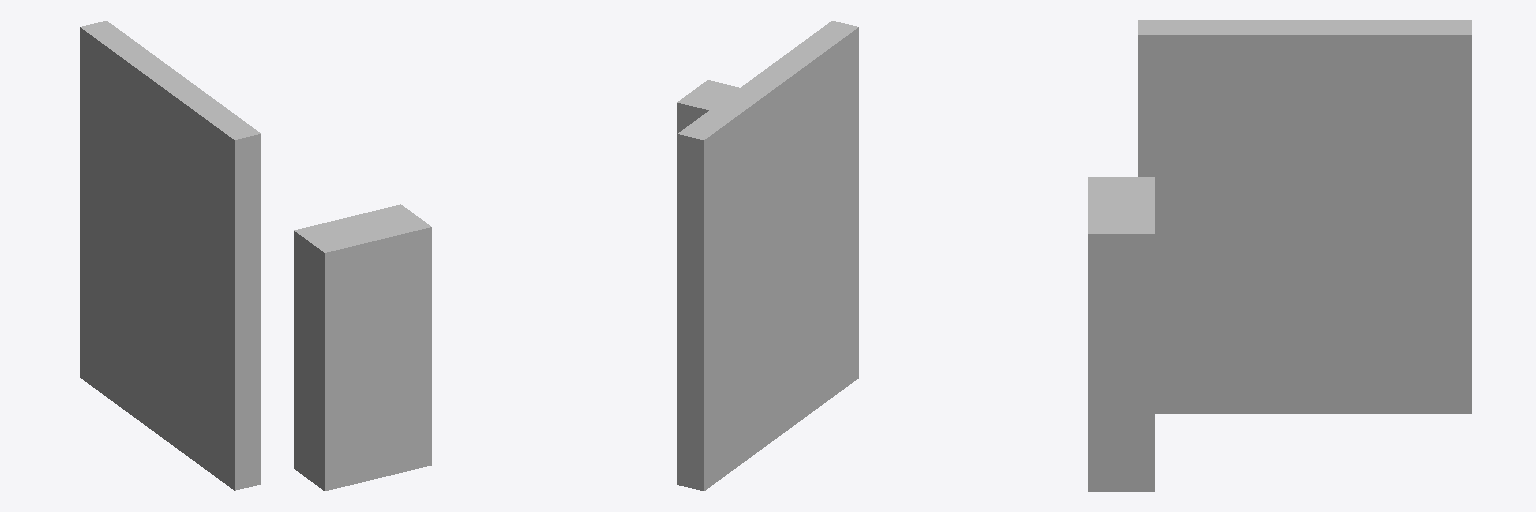
robot.urdf — robot_mh5l_wtable:
<?xml version="1.0" encoding="utf-8"?>
<!-- =================================================================================== -->
<!-- |    This document was autogenerated by xacro from mh5l_table_pgn64.xacro         | -->
<!-- |    EDITING THIS FILE BY HAND IS NOT RECOMMENDED                                 | -->
<!-- =================================================================================== -->
<robot name="robot_mh5l_wtable">
  <!--Build Kinematic Chain using imported components -->
  <!-- Motoman MH5L Table URDF -->
  <link name="table_link">
    <visual>
      <origin rpy="0 0 0" xyz="0 0 0"/>
      <geometry>
        <mesh filename="package://mh5l_table/meshes/mh5_worktable_visual.stl"/>
      </geometry>
      <material name="table">
        <color rgba="0.8 0.8 0.8 1"/>
      </material>
    </visual>
    <collision>
      <origin rpy="0 0 0" xyz="0 0 0"/>
      <geometry>
        <mesh filename="package://mh5l_table/meshes/mh5_worktable_collision.stl"/>
      </geometry>
    </collision>
  </link>
  <link name="back_wall">
    <visual>
      <origin rpy="0 0 0" xyz="0 0 0"/>
      <geometry>
        <box size="0.2 2 2.5"/>
      </geometry>
      <material name="table"/>
    </visual>
    <collision>
      <origin rpy="0 0 0" xyz="0 0 0"/>
      <geometry>
        <box size="0.2 2 2.5"/>
      </geometry>
    </collision>
  </link>
  <link name="side_wall">
    <visual>
      <origin rpy="0 0 0" xyz="0 0 0"/>
      <geometry>
        <box size="0.80 0.40 1.7"/>
      </geometry>
      <material name="table"/>
    </visual>
    <collision>
      <origin rpy="0 0 0" xyz="0 0 0"/>
      <geometry>
        <box size="0.80 0.40 1.7"/>
      </geometry>
    </collision>
  </link>
  <joint name="table_link-back_wall" type="fixed">
    <origin rpy="0 0 0" xyz="-0.9 0 0.4"/>
    <parent link="table_link"/>
    <child link="back_wall"/>
  </joint>
  <joint name="table_link-side_wall" type="fixed">
    <origin rpy="0 0 0" xyz="-0.1 -1.10 0"/>
    <parent link="table_link"/>
    <child link="side_wall"/>
  </joint>
  <!-- Motoman MH5L Origin on Table -->
  <link name="robot_origin"/>
  <joint name="robot_origin-table_link" type="fixed">
    <origin rpy="0 0 0" xyz="0 0 0"/>
    <parent link="robot_origin"/>
    <child link="table_link"/>
  </joint>
  <!-- Properties -->
  <material name="yaskawa_white">
    <color rgba="0.9 0.9 0.9 1"/>
  </material>
  <!-- link list -->
  <link name="base_link">
    <visual>
      <origin rpy="0 0 0" xyz="0 0 0"/>
      <geometry>
        <mesh filename="package://motoman_mh5_support/meshes/mh5l/visual/base_link.stl"/>
      </geometry>
      <material name="yaskawa_white"/>
    </visual>
    <collision>
      <origin rpy="0 0 0" xyz="0 0 0"/>
      <geometry>
        <mesh filename="package://motoman_mh5_support/meshes/mh5l/collision/base_link.stl"/>
      </geometry>
    </collision>
  </link>
  <link name="link_1_s">
    <visual>
      <origin rpy="0 0 0" xyz="0 0 0"/>
      <geometry>
        <mesh filename="package://motoman_mh5_support/meshes/mh5l/visual/link_1_s.stl"/>
      </geometry>
      <material name="yaskawa_white"/>
    </visual>
    <collision>
      <origin rpy="0 0 0" xyz="0 0 0"/>
      <geometry>
        <mesh filename="package://motoman_mh5_support/meshes/mh5l/collision/link_1_s.stl"/>
      </geometry>
    </collision>
  </link>
  <link name="link_2_l">
    <visual>
      <origin rpy="0 0 0" xyz="0 0 0"/>
      <geometry>
        <mesh filename="package://motoman_mh5_support/meshes/mh5l/visual/link_2_l.stl"/>
      </geometry>
      <material name="yaskawa_white"/>
    </visual>
    <collision>
      <origin rpy="0 0 0" xyz="0 0 0"/>
      <geometry>
        <mesh filename="package://motoman_mh5_support/meshes/mh5l/collision/link_2_l.stl"/>
      </geometry>
    </collision>
  </link>
  <link name="link_3_u">
    <visual>
      <origin rpy="0 0 0" xyz="0 0 0"/>
      <geometry>
        <mesh filename="package://motoman_mh5_support/meshes/mh5l/visual/link_3_u.stl"/>
      </geometry>
      <material name="yaskawa_white"/>
    </visual>
    <collision>
      <origin rpy="0 0 0" xyz="0 0 0"/>
      <geometry>
        <mesh filename="package://motoman_mh5_support/meshes/mh5l/collision/link_3_u.stl"/>
      </geometry>
    </collision>
  </link>
  <link name="link_4_r">
    <visual>
      <origin rpy="0 0 0" xyz="0 0 0"/>
      <geometry>
        <mesh filename="package://motoman_mh5_support/meshes/mh5l/visual/link_4_r.stl"/>
      </geometry>
      <material name="yaskawa_white"/>
    </visual>
    <collision>
      <origin rpy="0 0 0" xyz="0 0 0"/>
      <geometry>
        <mesh filename="package://motoman_mh5_support/meshes/mh5l/collision/link_4_r.stl"/>
      </geometry>
    </collision>
  </link>
  <link name="link_5_b">
    <visual>
      <origin rpy="0 0 0" xyz="0 0 0"/>
      <geometry>
        <mesh filename="package://motoman_mh5_support/meshes/mh5l/visual/link_5_b.stl"/>
      </geometry>
      <material name="yaskawa_white"/>
    </visual>
    <collision>
      <origin rpy="0 0 0" xyz="0 0 0"/>
      <geometry>
        <mesh filename="package://motoman_mh5_support/meshes/mh5l/collision/link_5_b.stl"/>
      </geometry>
    </collision>
  </link>
  <link name="link_6_t">
    <visual>
      <origin rpy="0 0 0" xyz="0 0 0"/>
      <geometry>
        <mesh filename="package://motoman_mh5_support/meshes/mh5l/visual/link_6_t.stl"/>
      </geometry>
      <material name="yaskawa_white"/>
    </visual>
    <collision>
      <origin rpy="0 0 0" xyz="0 0 0"/>
      <geometry>
        <mesh filename="package://motoman_mh5_support/meshes/mh5l/collision/link_6_t.stl"/>
      </geometry>
    </collision>
  </link>
  <!-- end of link list -->
  <!-- joint list -->
  <joint name="joint_1_s" type="revolute">
    <parent link="base_link"/>
    <child link="link_1_s"/>
    <origin rpy="0 0 0" xyz="0 0 0.330"/>
    <axis xyz="0 0 1"/>
    <limit effort="303.8" lower="-2.96705972839" upper="2.96705972839" velocity="4.71238898038"/>
  </joint>
  <joint name="joint_2_l" type="revolute">
    <parent link="link_1_s"/>
    <child link="link_2_l"/>
    <origin rpy="0 0 0" xyz="0.0880 0 0.00"/>
    <axis xyz="0 1 0"/>
    <limit effort="205.8" lower="-1.1344640138" upper="2.61799387799" velocity="4.88692190558"/>
  </joint>
  <joint name="joint_3_u" type="revolute">
    <parent link="link_2_l"/>
    <child link="link_3_u"/>
    <origin rpy="0 0 0" xyz="0 0 0.400"/>
    <axis xyz="0 -1 0"/>
    <limit effort="85.5" lower="-1.2217304764" upper="3.31612557879" velocity="5.23598775598"/>
  </joint>
  <joint name="joint_4_r" type="revolute">
    <parent link="link_3_u"/>
    <child link="link_4_r"/>
    <origin rpy="0 0 0" xyz="0 0 0.040"/>
    <axis xyz="-1 0 0"/>
    <limit effort="44.7" lower="-3.31612557879" upper="3.31612557879" velocity="7.85398163397"/>
  </joint>
  <joint name="joint_5_b" type="revolute">
    <parent link="link_4_r"/>
    <child link="link_5_b"/>
    <origin rpy="0 0 0" xyz="0.405 0 0"/>
    <axis xyz="0 -1 0"/>
    <limit effort="18.0" lower="-2.35619449019" upper="2.35619449019" velocity="7.85398163397"/>
  </joint>
  <joint name="joint_6_t" type="revolute">
    <parent link="link_5_b"/>
    <child link="link_6_t"/>
    <origin rpy="0 0 0" xyz="0.080 0 0"/>
    <axis xyz="-1 0 0"/>
    <limit effort="18.0" lower="-6.28318530718" upper="6.28318530718" velocity="12.5663706144"/>
  </joint>
  <!-- end of joint list -->
  <!-- ROS base_link to Robot Manufacturer (Motoman) World Coordinates transform -->
  <link name="base"/>
  <joint name="base_link-base" type="fixed">
    <parent link="base_link"/>
    <child link="base"/>
    <origin rpy="0 0 0" xyz="0 0 0.330"/>
  </joint>
  <!-- ROS-Industrial 'flange' frame: attachment point for EEF models -->
  <link name="flange"/>
  <joint name="joint_6_t-flange" type="fixed">
    <parent link="link_6_t"/>
    <child link="flange"/>
    <origin rpy="0 0 0" xyz="0 0 0"/>
  </joint>
  <!-- ROS-Industrial 'tool0' frame: all-zeros tool frame -->
  <link name="tool0"/>
  <joint name="joint_6_t-tool0" type="fixed">
    <parent link="link_6_t"/>
    <child link="tool0"/>
    <origin rpy="3.14159265359 -1.57079632679 0" xyz="0 0 0"/>
  </joint>
  <!-- Schunk PGN64 EEF URDF -->
  <link name="eef_link">
    <visual>
      <origin rpy="0 -1.57079632679 0" xyz="0 0 0"/>
      <geometry>
        <mesh filename="package://schunk_pgn64_support/meshes/pgn64_closed_visual.stl"/>
      </geometry>
      <material name="eef">
        <color rgba="0.5 0.8 0.5 1"/>
      </material>
    </visual>
    <collision>
      <origin rpy="0 -1.57079632679 0" xyz="0 0 0"/>
      <geometry>
        <mesh filename="package://schunk_pgn64_support/meshes/pgn64_closed_collision.stl"/>
      </geometry>
    </collision>
  </link>
  <!-- EEF TCP Defined as the center point between EEF finger tips -->
  <link name="eef_tcp"/>
  <joint name="eef_link-eef_tcp" type="fixed">
    <origin rpy="0 0 0" xyz="0 0 0.134"/>
    <parent link="eef_link"/>
    <child link="eef_tcp"/>
  </joint>
  <joint name="robot_origin-base_link" type="fixed">
    <parent link="robot_origin"/>
    <child link="base_link"/>
    <origin rpy="0 0 0" xyx="0 0 0"/>
  </joint>
  <joint name="tool0-eef_link" type="fixed">
    <parent link="tool0"/>
    <child link="eef_link"/>
    <origin rpy="0 0 0" xyx="0 0 0"/>
  </joint>
</robot>

--- Render facts (derived) ---
3 views of the same robot in one strip: view 1: azimuth 30°, elevation 25°; view 2: azimuth 150°, elevation 25°; view 3: azimuth 270°, elevation 25° (orthographic).
Robot: robot_mh5l_wtable — 16 links, 15 joints (6 revolute, 9 fixed); root link robot_origin; default pose: every joint at zero.
Links seen in each view (by area): view 1: back_wall, side_wall; view 2: back_wall, side_wall; view 3: back_wall, side_wall.
Link boxes in pixels (left/top/right/bottom): back_wall: left=80, top=21, right=260, bottom=490; side_wall: left=294, top=204, right=431, bottom=490; back_wall: left=677, top=21, right=858, bottom=490; side_wall: left=677, top=80, right=738, bottom=133; back_wall: left=1138, top=20, right=1471, bottom=413; side_wall: left=1088, top=177, right=1154, bottom=491.
Bounding box of the posed robot: 1.3 × 2.3 × 2.5 m (x, y, z).
0 mesh visuals loaded from 9 distinct referenced files (none loaded); not drawn: 9 (reference not matched to a file when rendering).